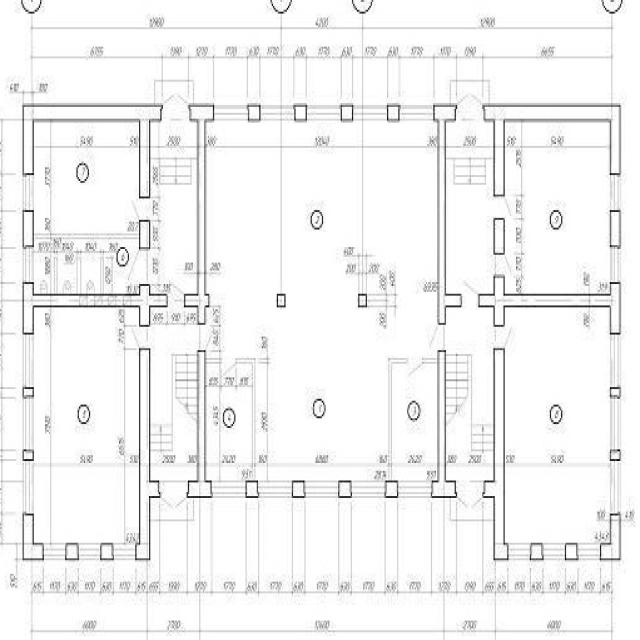Bathrooms: (34, 255, 54, 293), (81, 255, 100, 294), (58, 255, 77, 293)
Corridors: (205, 293, 438, 357), (34, 239, 139, 294), (446, 195, 493, 294), (150, 197, 197, 293), (445, 307, 494, 349), (151, 308, 198, 349), (450, 497, 494, 521), (151, 497, 194, 520), (450, 80, 489, 104), (154, 80, 193, 103)
Doors: (158, 481, 188, 511), (455, 90, 484, 120), (456, 481, 484, 512), (125, 249, 149, 285), (161, 92, 190, 120), (198, 323, 217, 351), (462, 277, 479, 308), (494, 253, 515, 278), (494, 326, 515, 350), (427, 323, 445, 351), (129, 326, 150, 350), (167, 277, 184, 306), (129, 197, 150, 220), (494, 197, 514, 220), (219, 358, 237, 383), (405, 359, 423, 379), (34, 251, 55, 255), (81, 251, 101, 255), (58, 251, 77, 255)
LBwalls: (22, 103, 164, 199), (483, 104, 621, 197), (478, 275, 622, 334), (22, 282, 168, 334), (184, 103, 214, 325), (433, 104, 463, 325), (482, 348, 509, 561), (135, 348, 161, 560), (431, 350, 458, 498), (187, 350, 213, 499), (600, 513, 622, 561), (23, 514, 44, 561), (22, 210, 33, 248), (610, 210, 621, 248), (494, 218, 505, 254), (139, 220, 150, 249), (338, 479, 352, 498), (387, 104, 401, 122), (384, 481, 398, 499), (565, 543, 579, 560), (293, 104, 307, 121), (245, 480, 259, 497), (292, 481, 306, 498), (530, 542, 543, 560), (247, 104, 260, 122), (340, 104, 353, 122), (101, 543, 113, 560), (66, 543, 78, 560), (276, 293, 286, 308), (358, 293, 368, 308), (22, 450, 34, 461), (610, 387, 621, 399), (22, 388, 34, 398), (610, 449, 620, 460)
Offices: (205, 122, 438, 293), (505, 308, 610, 543), (34, 307, 139, 542), (504, 122, 610, 294), (256, 357, 389, 481), (34, 121, 140, 233), (392, 364, 437, 480), (206, 365, 251, 480)
Stairs: (446, 350, 494, 481), (151, 351, 196, 480), (150, 121, 197, 196), (446, 121, 494, 194)
Walls: (237, 357, 256, 480), (388, 358, 406, 481), (33, 233, 139, 239), (54, 251, 58, 295), (77, 251, 81, 293), (422, 358, 438, 365), (206, 358, 220, 365), (101, 250, 103, 295)
Windows: (610, 334, 621, 388), (23, 460, 34, 514), (23, 334, 34, 388), (214, 104, 248, 121), (353, 104, 387, 121), (260, 104, 295, 120), (610, 460, 620, 514), (610, 397, 620, 450), (23, 397, 33, 450), (307, 105, 341, 120), (399, 105, 433, 120), (258, 482, 292, 497), (398, 481, 431, 496), (352, 482, 385, 497), (305, 481, 338, 496), (212, 481, 245, 496), (610, 246, 621, 282), (44, 543, 66, 561), (542, 543, 565, 560), (78, 543, 101, 560), (508, 543, 530, 560), (577, 543, 600, 559), (113, 543, 136, 559), (610, 174, 620, 210), (23, 174, 33, 210), (23, 246, 33, 282)
